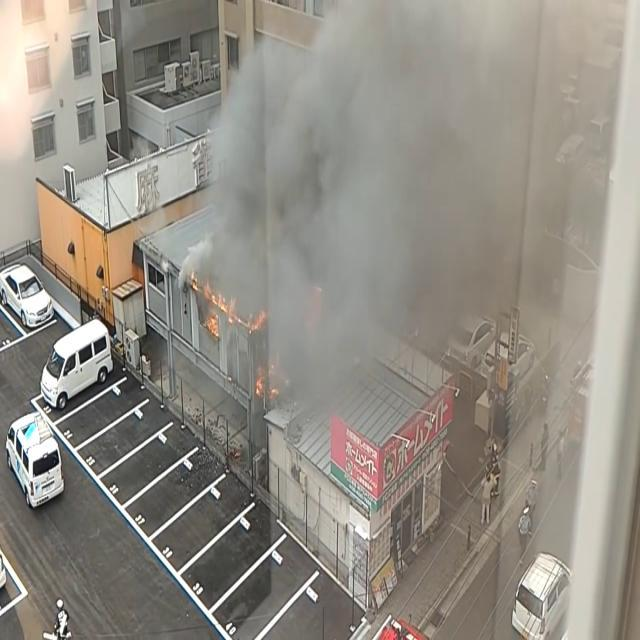Smoke: (185, 1, 588, 400)
